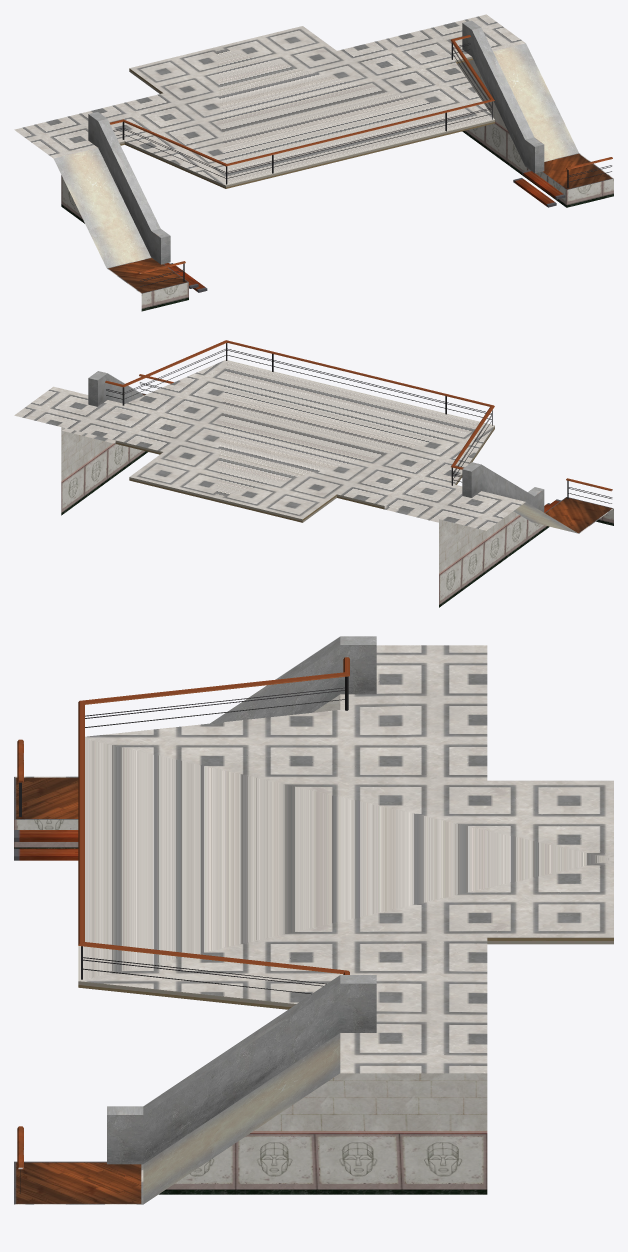
The model's file is pm-launch-building-coon-stairs.glb.
3 views of the same model, one above another, from view 1: azimuth 30°, elevation 25°; view 2: azimuth 150°, elevation 25°; view 3: azimuth 270°, elevation 25° (orthographic). The views are drawn at different scales.
Visible parts, largest first — view 1: Launch_Building_Coon_Stairs; view 2: Launch_Building_Coon_Stairs; view 3: Launch_Building_Coon_Stairs.
Boxes of the visible parts, x1,y1,x2,y2 form: Launch_Building_Coon_Stairs: (14,14,613,311); Launch_Building_Coon_Stairs: (14,340,613,607); Launch_Building_Coon_Stairs: (14,636,613,1204).
Bounding box in the file's own units: 23.81 × 5.54 × 14.11.
Materials: 6 (6 with a texture image).
